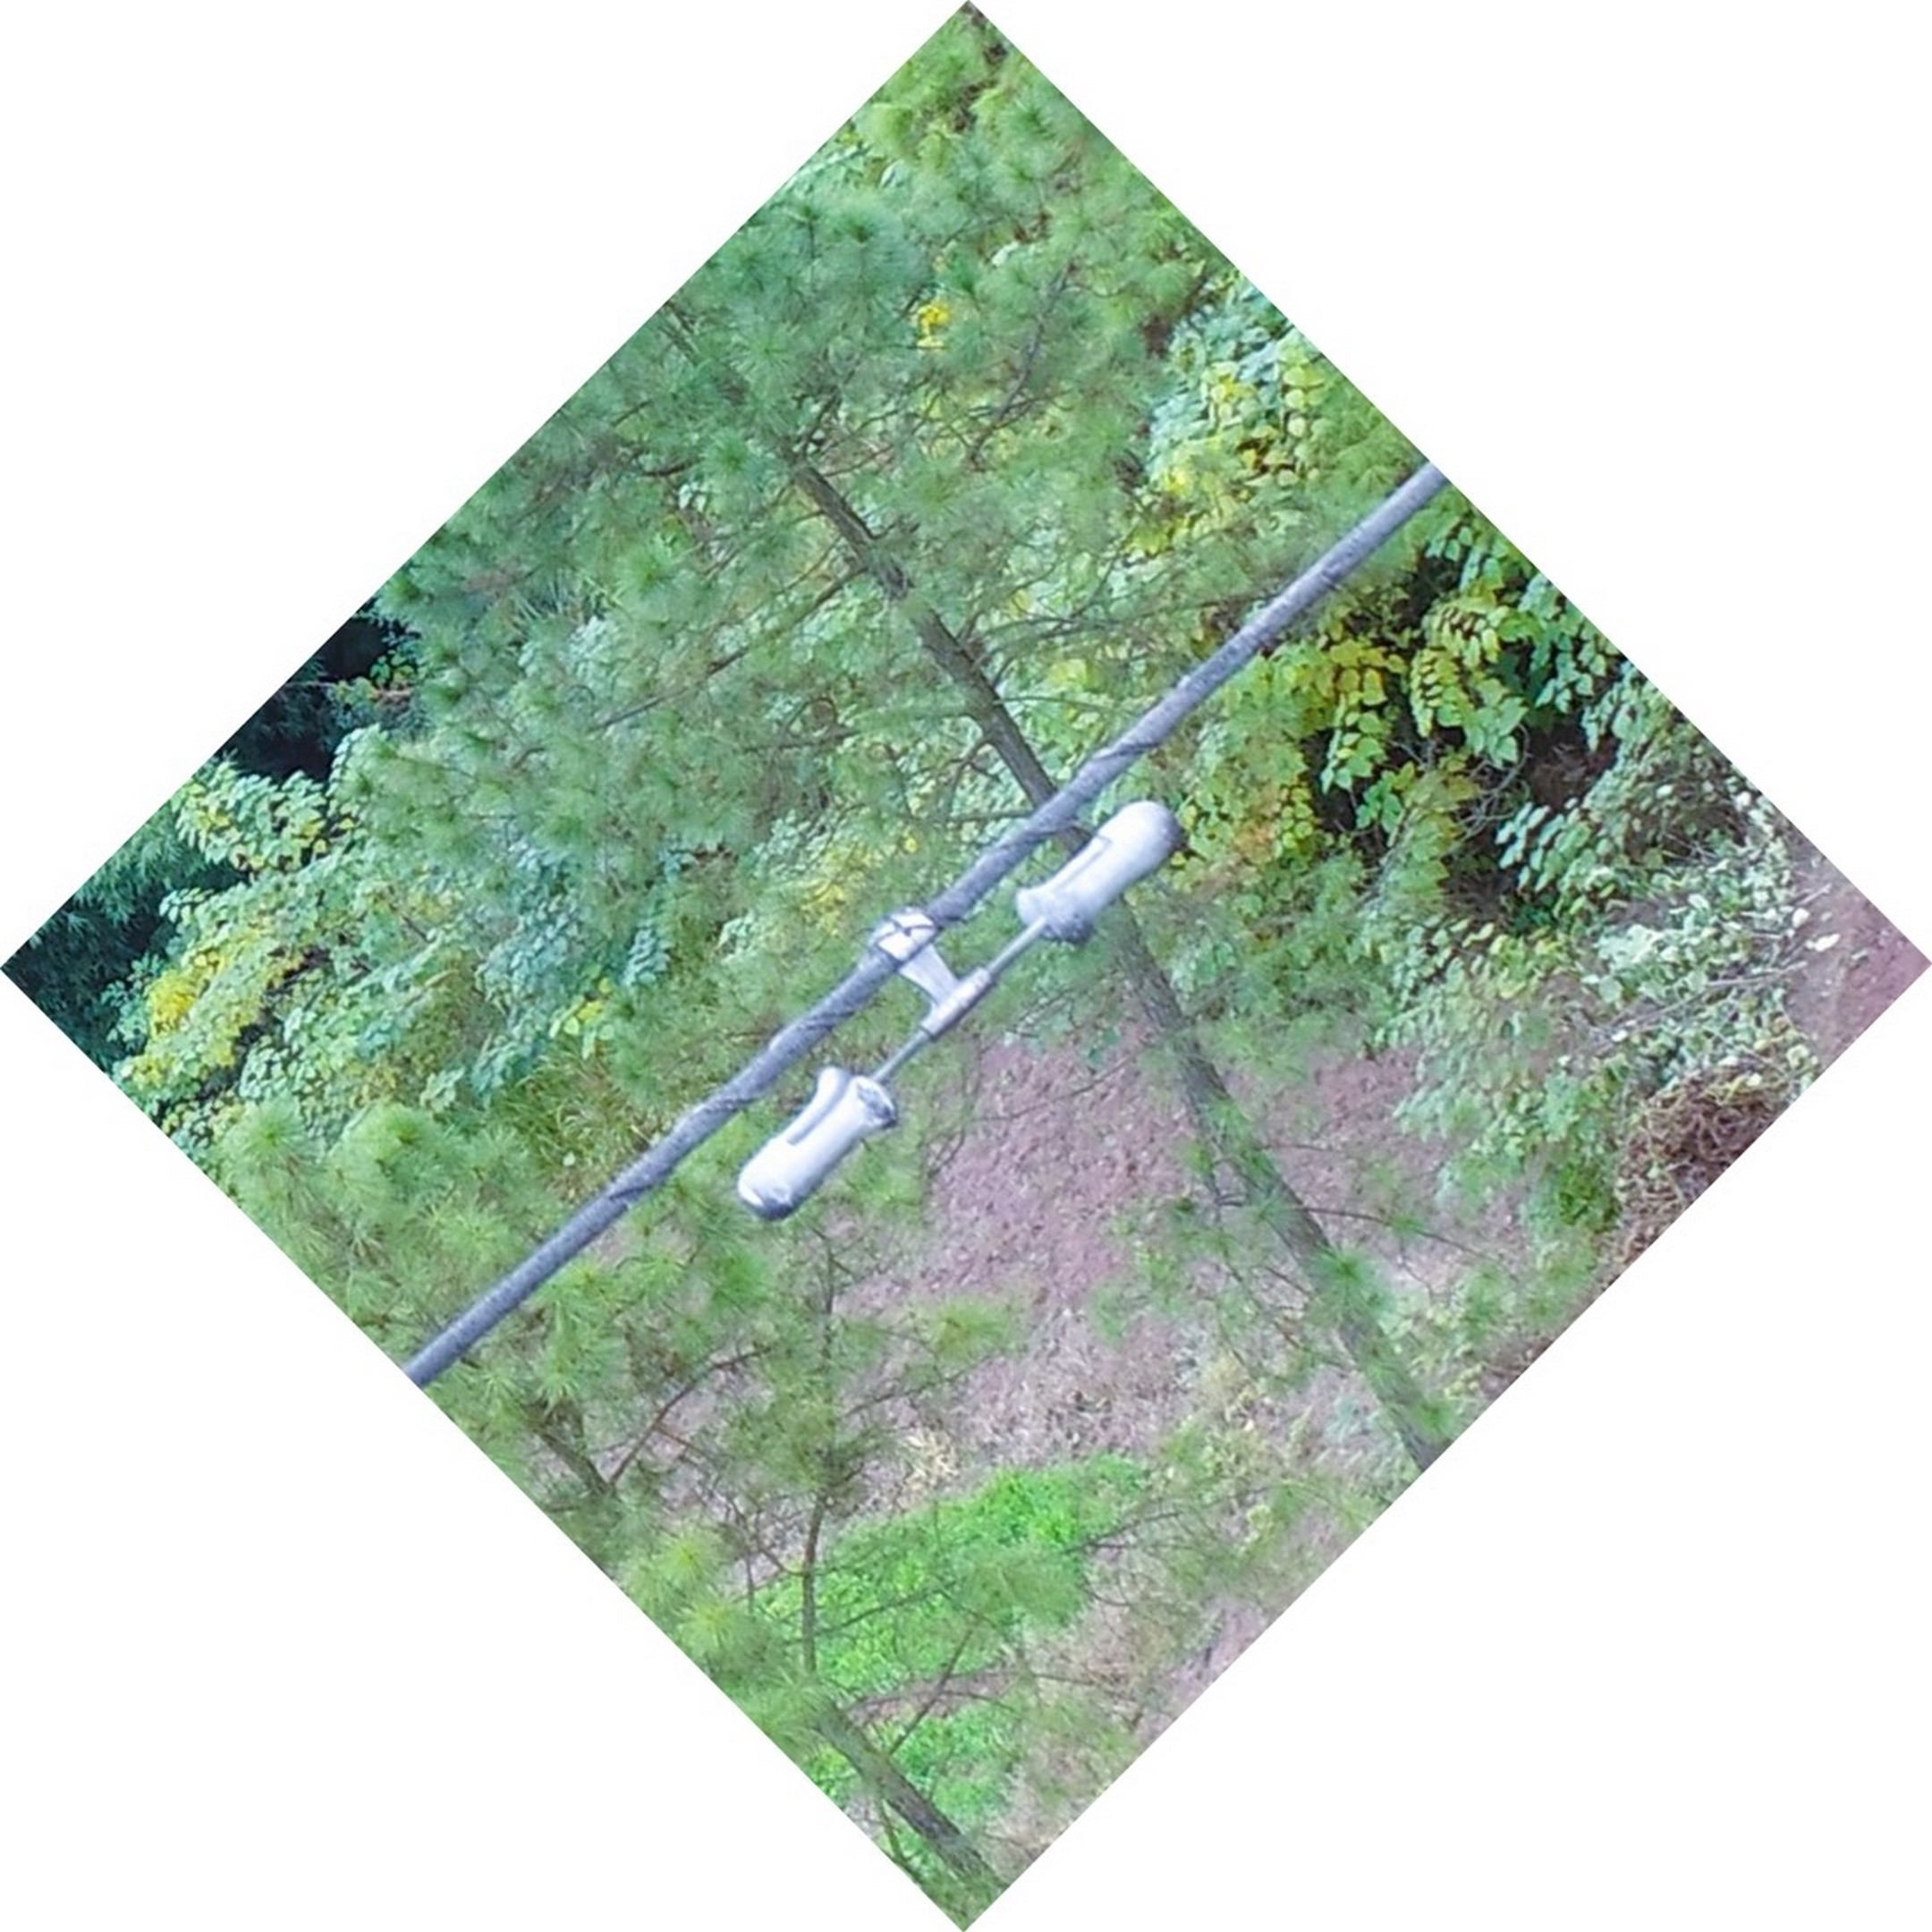Shockproof hammer: (704, 759, 1210, 1233)
